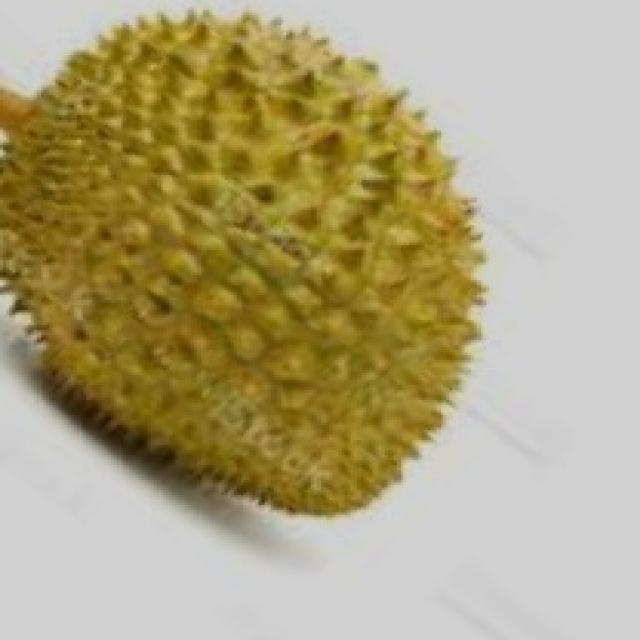fruit: (0, 167, 363, 565)
